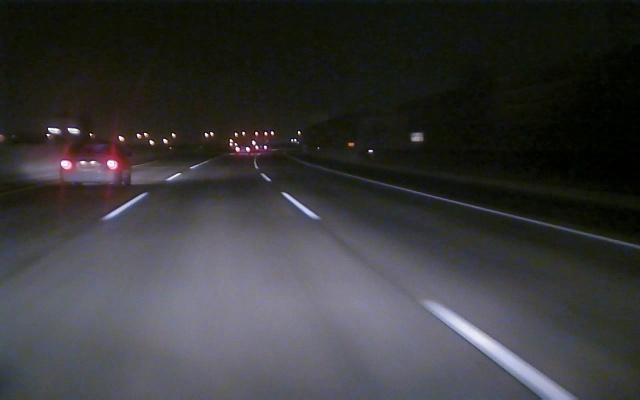lane: (261, 175, 577, 398), (329, 169, 639, 250), (95, 191, 151, 224)
